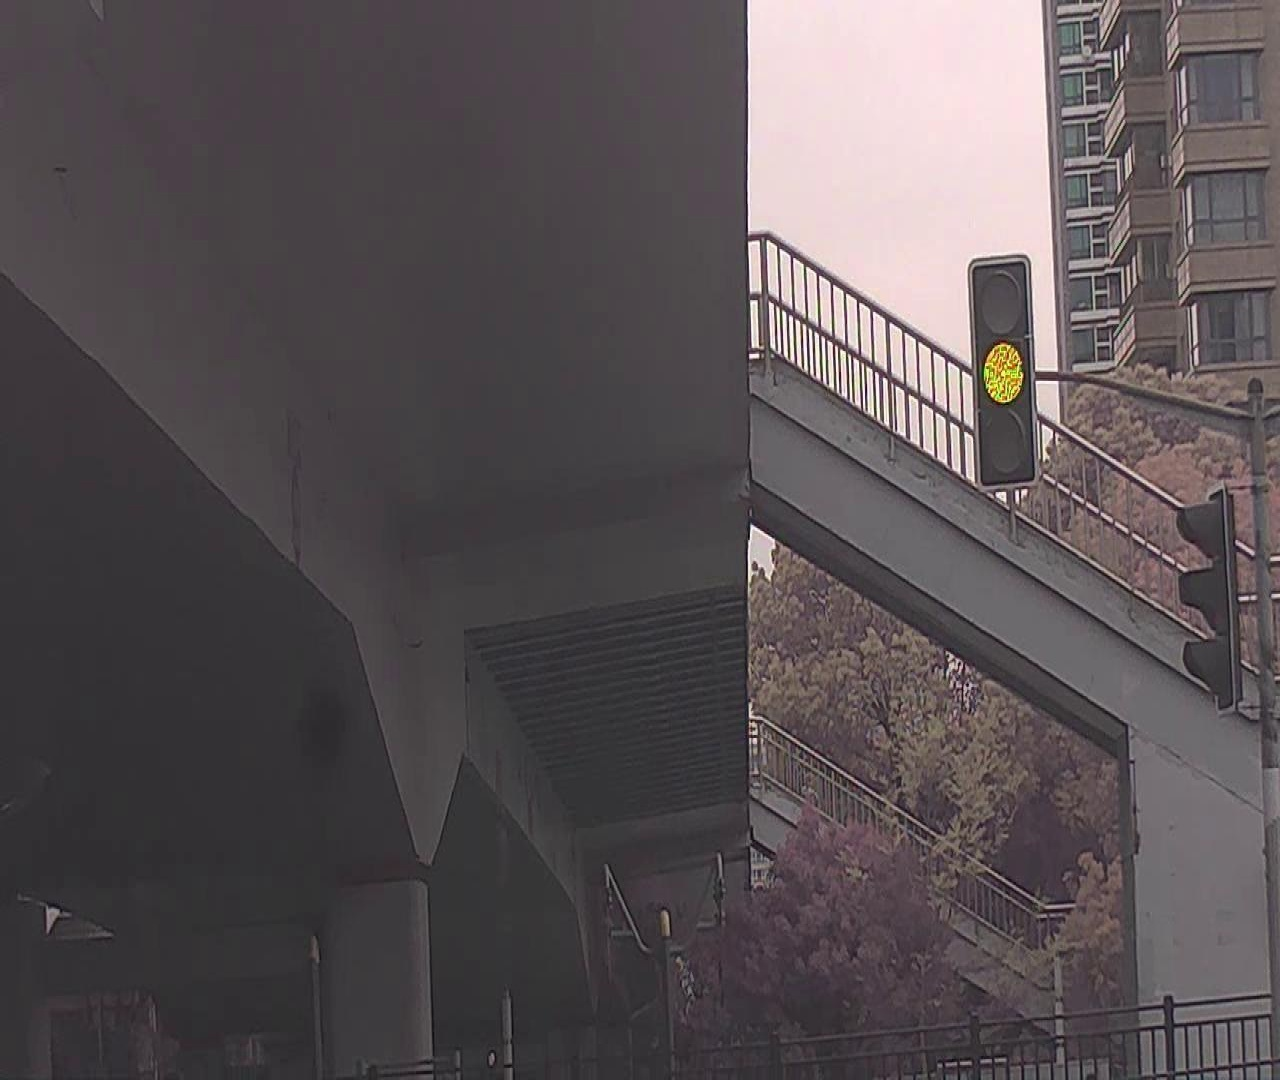yellow: (967, 250, 1033, 493)
